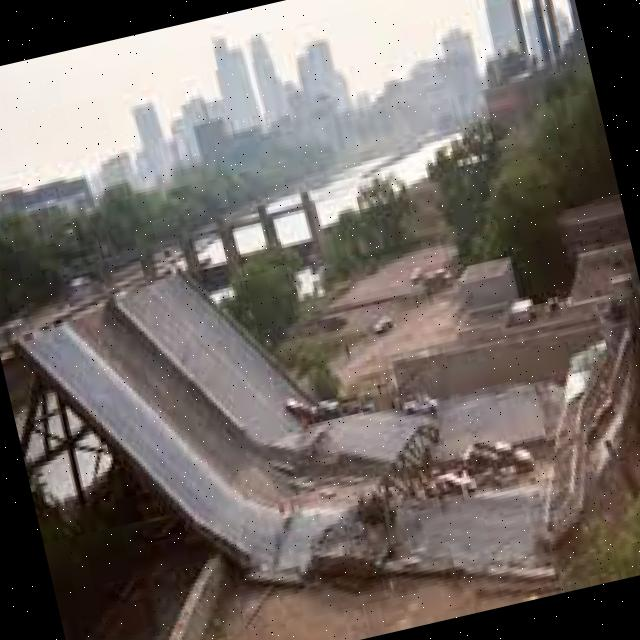bridge collapse: (23, 113, 640, 640)
